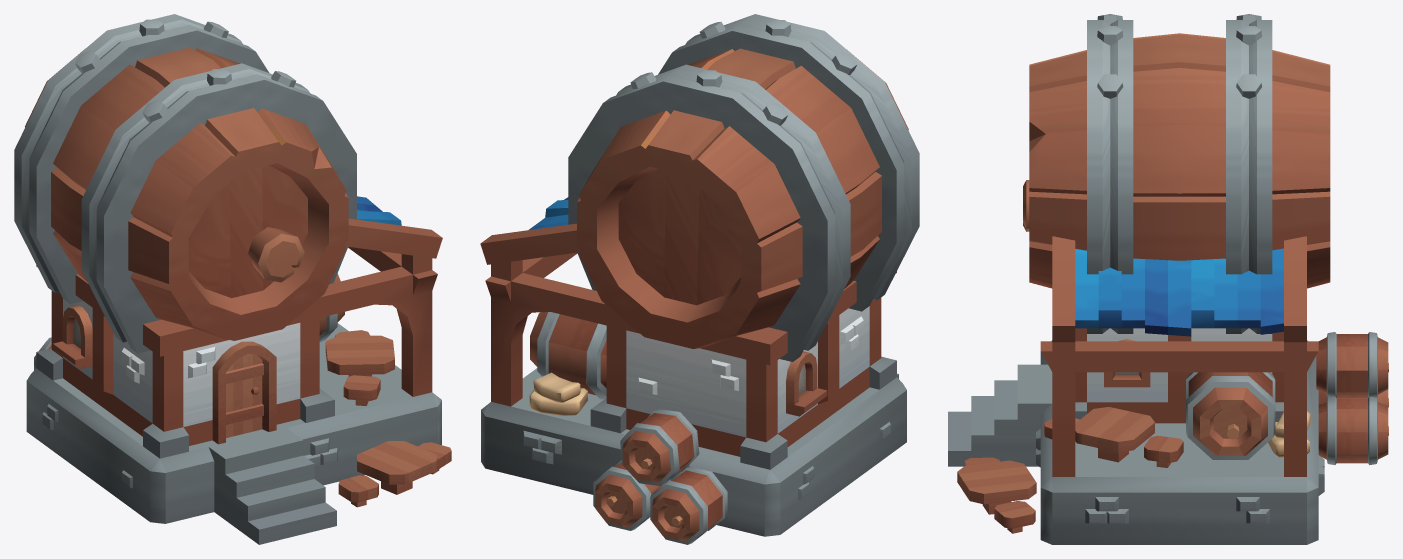
File: tavern_blue.glb
The picture shows the model from 3 angles, left to right: view 1: azimuth 30°, elevation 25°; view 2: azimuth 150°, elevation 25°; view 3: azimuth 270°, elevation 25°; orthographic projection. The views are drawn at different scales.
Visible parts, largest first — view 1: building_tavern_blue; view 2: building_tavern_blue; view 3: building_tavern_blue.
Part boxes in pixels (<box>): building_tavern_blue: <box>14,14,451,544</box>; building_tavern_blue: <box>480,14,919,544</box>; building_tavern_blue: <box>948,14,1388,544</box>.
Size of the model in its own units: 1.17 by 1.4 by 1.33.
1 material, 1 textured.
